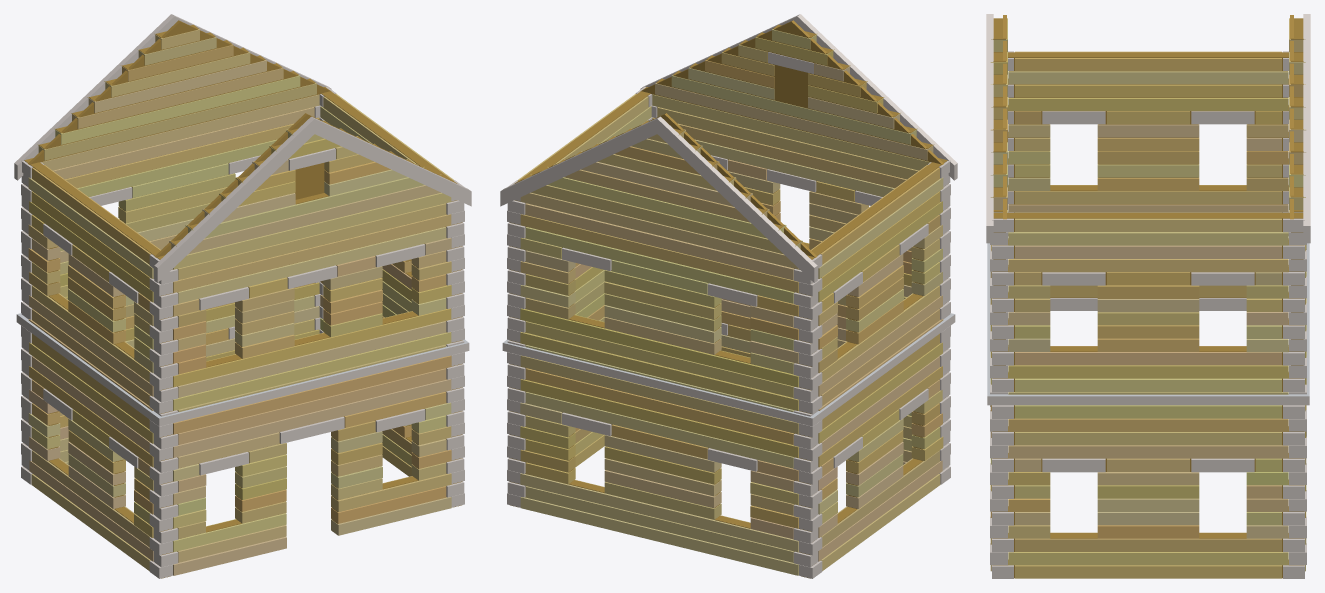
Rendered from CandyHouse_Butter_Walls.glb.
3 renders of one model, left to right at view 1: azimuth 30°, elevation 25°; view 2: azimuth 150°, elevation 25°; view 3: azimuth 270°, elevation 25°, orthographic. The views are drawn at different scales.
Parts seen in each view (by area): view 1: CandyHouse_Butter_Walls; view 2: CandyHouse_Butter_Walls; view 3: CandyHouse_Butter_Walls.
Boxes of the visible parts, x1,y1,x2,y2 form: CandyHouse_Butter_Walls: (14, 14, 471, 578); CandyHouse_Butter_Walls: (500, 14, 957, 578); CandyHouse_Butter_Walls: (986, 14, 1310, 578).
Bounding box in the file's own units: 24.8 × 32.08 × 19.6.
